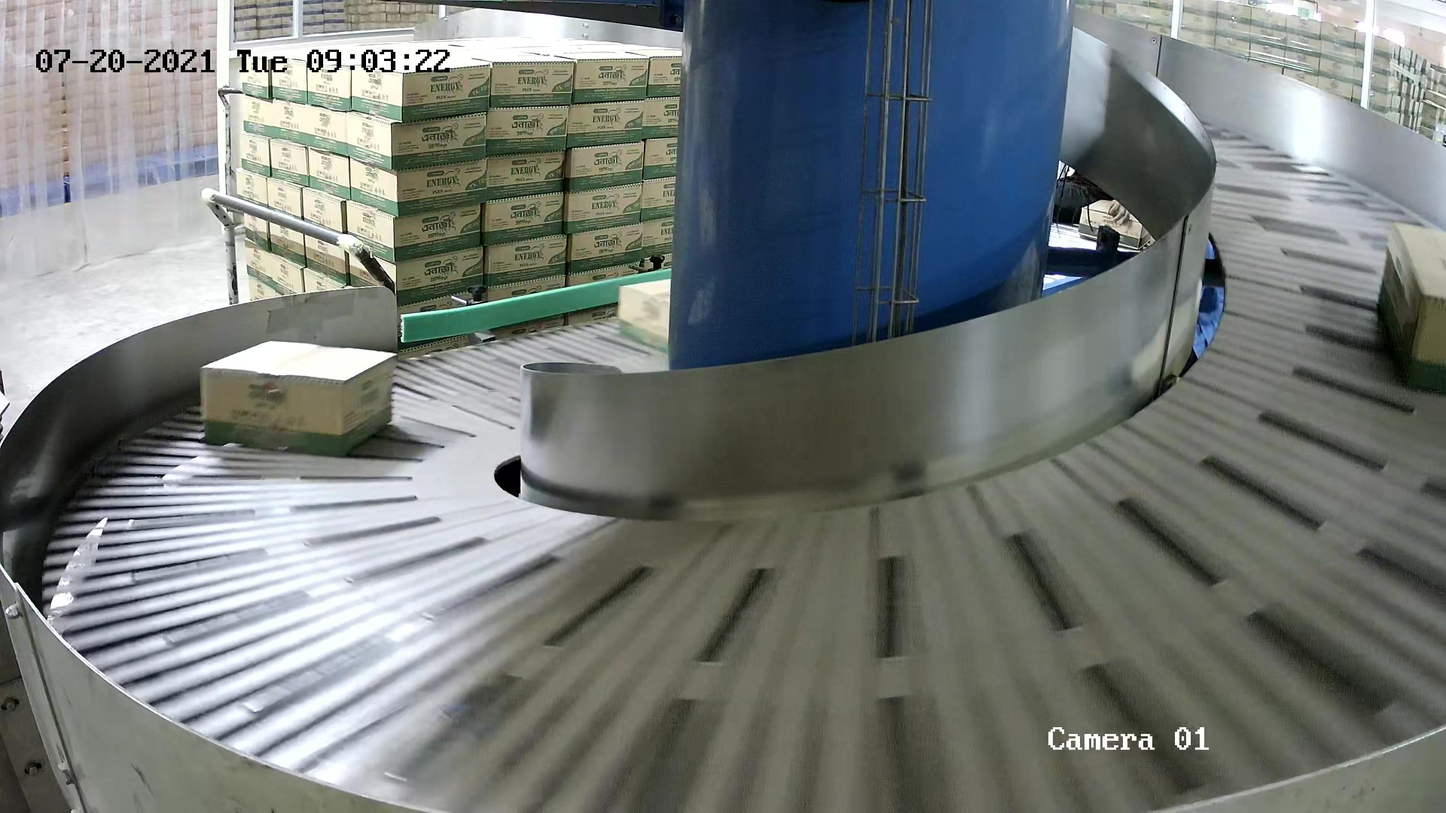Box: (199, 340, 397, 458), (1372, 218, 1446, 399), (618, 271, 768, 359)
